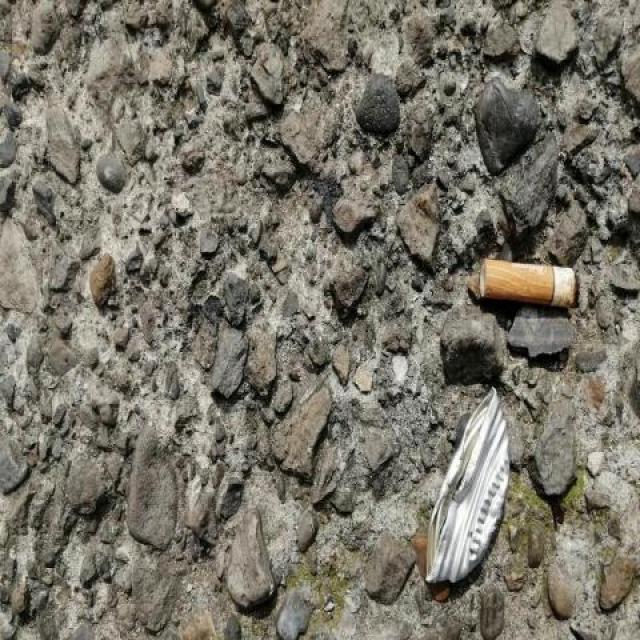non-organic waste: (476, 255, 580, 314)
